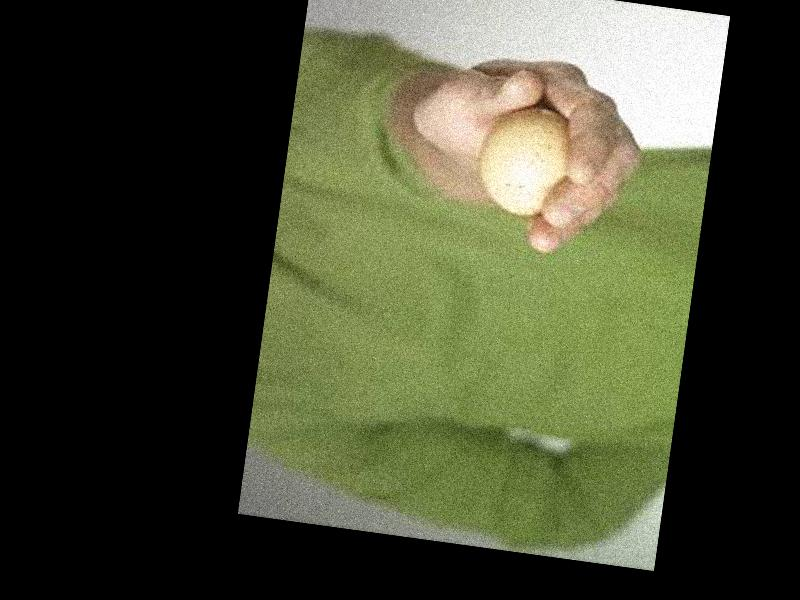Eggs: (474, 102, 575, 221)
